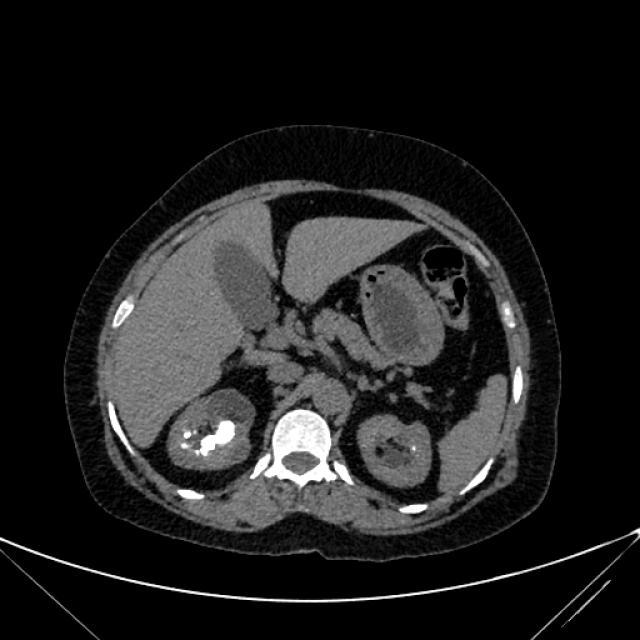kidney: (169, 387, 261, 470), (358, 413, 434, 489)
stone: (197, 418, 236, 453), (185, 431, 192, 437), (411, 444, 417, 450), (182, 442, 186, 447)
